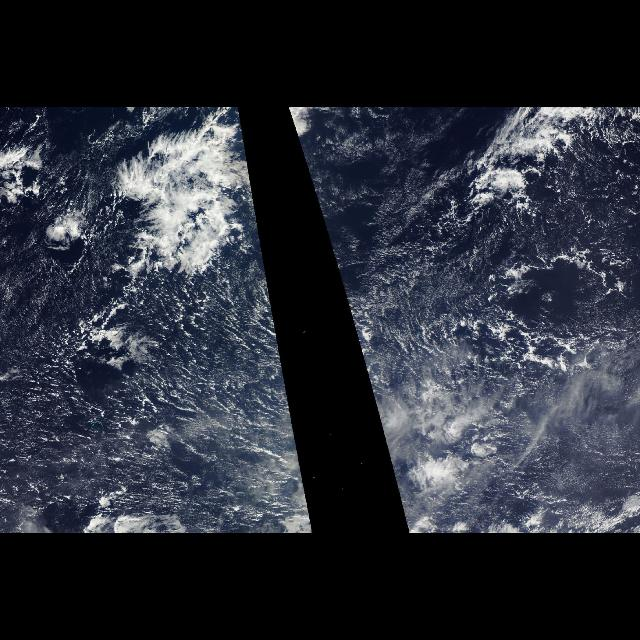Gravel: (56, 255, 298, 441), (427, 165, 633, 382), (334, 255, 396, 441)
Sugar: (1, 259, 308, 507), (304, 158, 461, 390)
